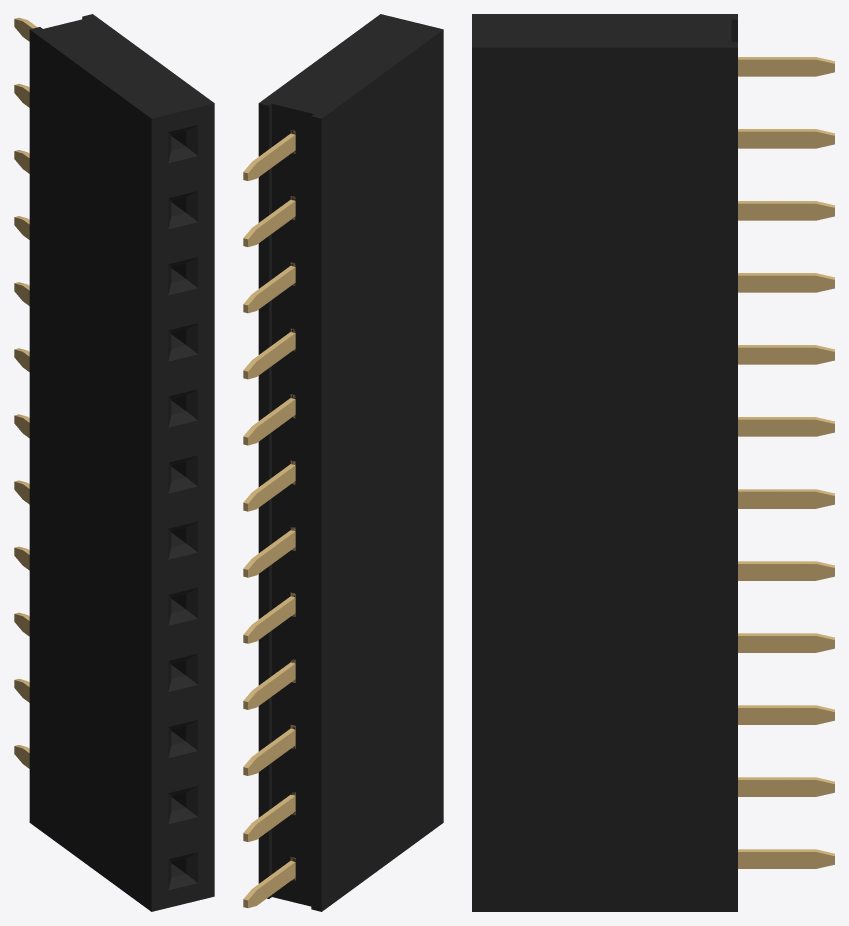
File: socket-1x12.glb
The picture shows the model from 3 angles, left to right: view 1: azimuth 30°, elevation 25°; view 2: azimuth 150°, elevation 25°; view 3: azimuth 270°, elevation 25°; orthographic projection. The views are drawn at different scales.
Visible parts, largest first — view 1: IC-BODY-EPOXY-04, PIN-02; view 2: IC-BODY-EPOXY-04, PIN-02 (×10); view 3: IC-BODY-EPOXY-04, PIN-02 (×12).
Boxes of the visible parts, <box> form: IC-BODY-EPOXY-04: <box>29,14,214,911</box>; PIN-02: <box>14,17,37,752</box>; IC-BODY-EPOXY-04: <box>258,14,443,911</box>; PIN-02 (×10): <box>243,130,295,908</box>; IC-BODY-EPOXY-04: <box>472,14,737,911</box>; PIN-02 (×12): <box>738,57,834,868</box>.
Bounding box in the file's own units: 2.54 × 30.48 × 11.6.
